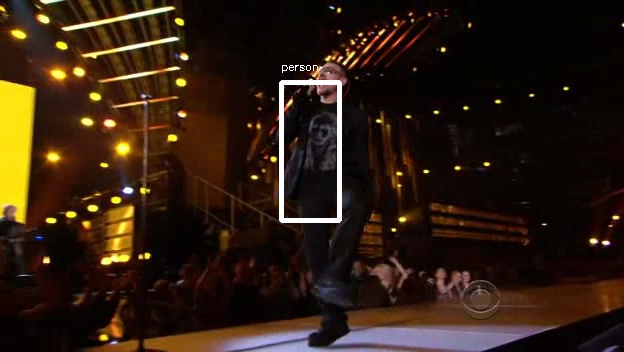person: (285, 61, 372, 232), (282, 61, 369, 232), (288, 61, 375, 232), (285, 58, 372, 229), (285, 64, 372, 235)
target_negative: (387, 164, 585, 344), (398, 231, 608, 277), (64, 198, 465, 219), (595, 86, 604, 246), (568, 349, 603, 351)
